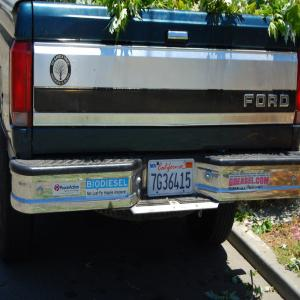Vehicle-registration-plate: (144, 162, 196, 201)
